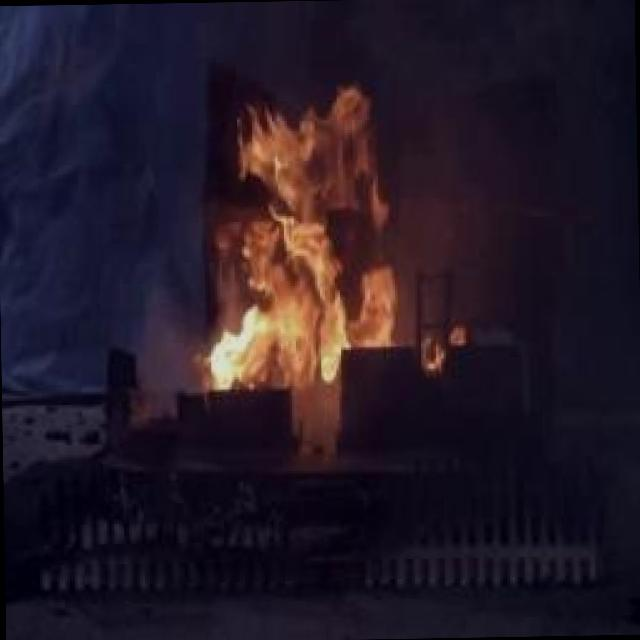fire: (199, 91, 409, 408)
